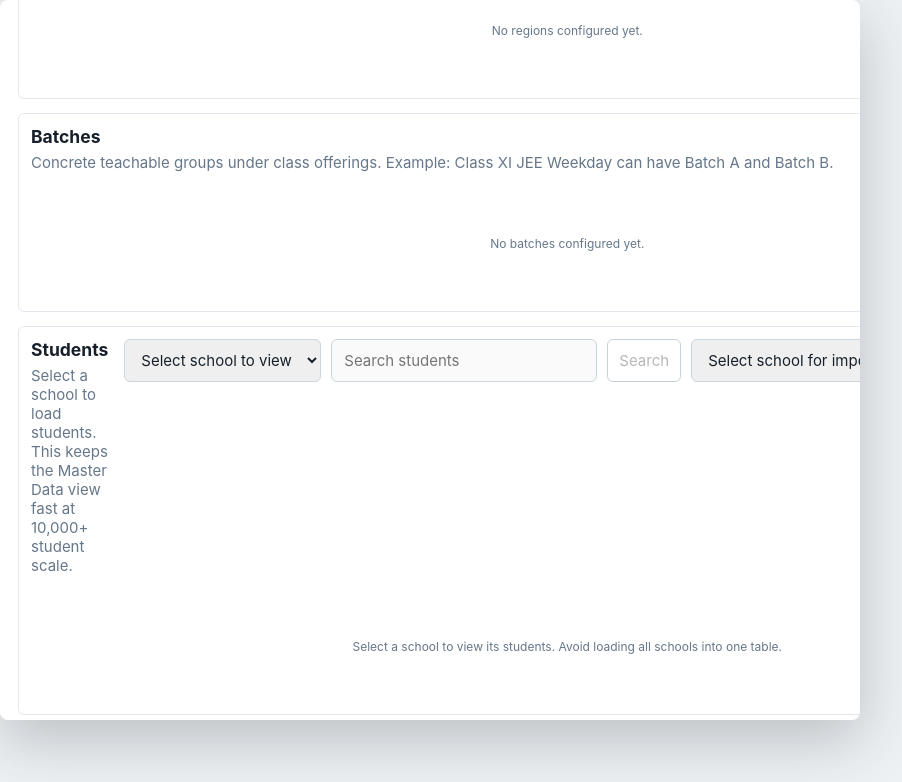
Test: MasterDataPanel › shows students with concrete batch names in Master Data
The width and height of the screenshot is (902, 782).
(page scrolled)
Select "Green Valley" in the dropdown named "Student list filter": {"x": 223, "y": 360} [124,339,321,382]
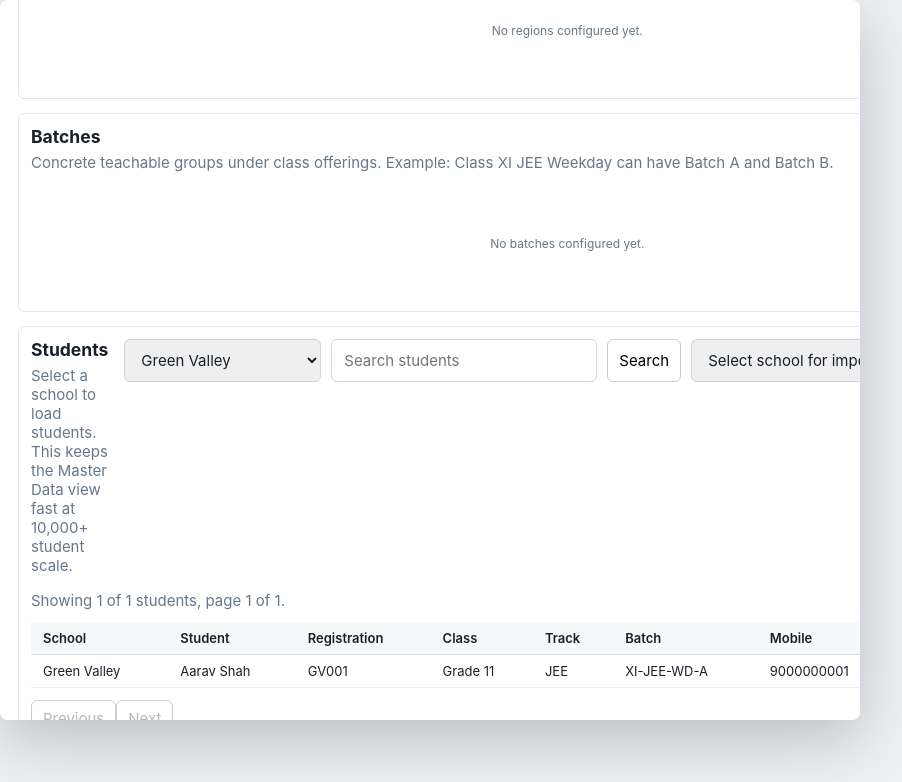
Check: the text "Aarav Shah" is shown, box [168,654,296,687]
Check: the text "XI-JEE-WD-A" is shown, box [613,654,758,687]
Check: the text "GV001" is shown, box [296,654,430,687]
